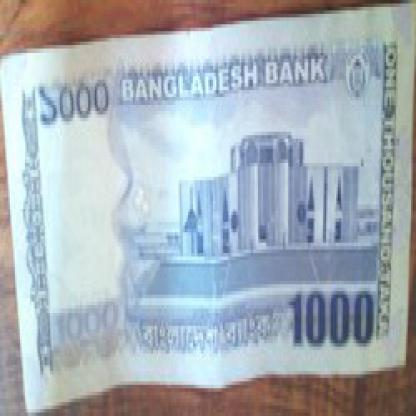One Thousand taka: (288, 288, 376, 350), (35, 76, 110, 128), (53, 298, 118, 343)
